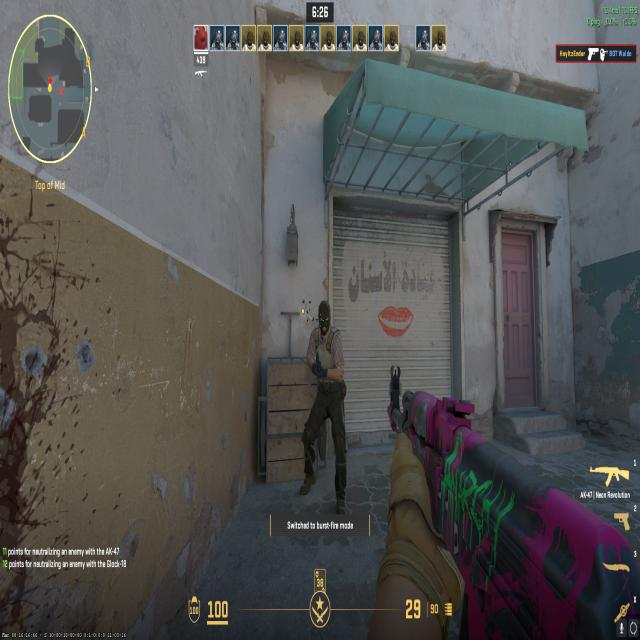t: (294, 289, 350, 516)
